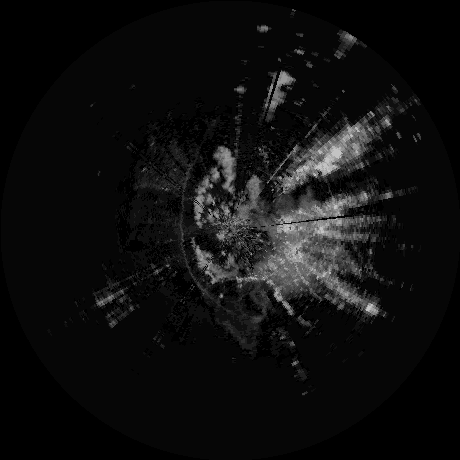frontgust: (179, 159, 193, 282)
